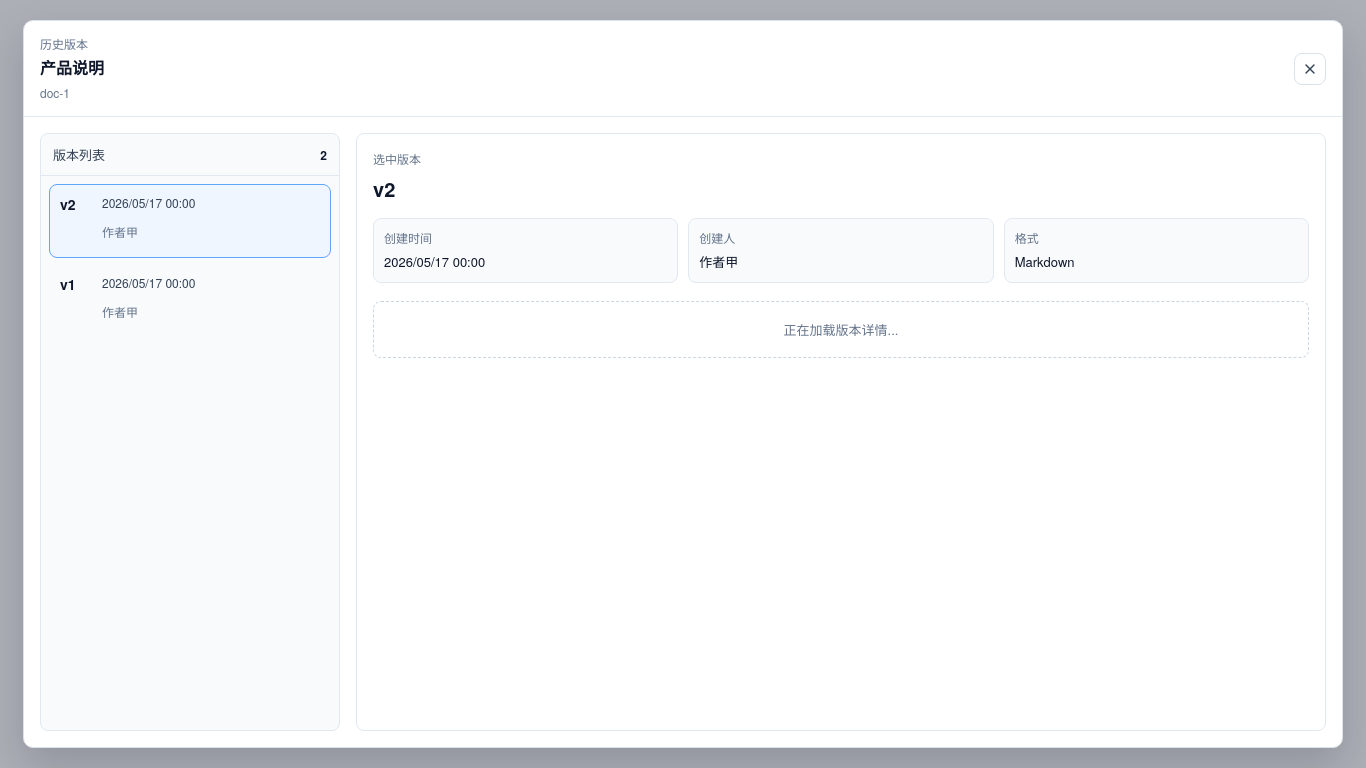
Test: DocumentRevisionHistoryDialog › ignores stale detail requests when switching selected revisions
Expected: the button with aria-label "版本 2，作者甲" is shown, [49,184,331,258]
Step 1. Click the button with aria-label "版本 1，作者甲" → x=149, y=282, box [49,264,331,338]
(page scrolled)
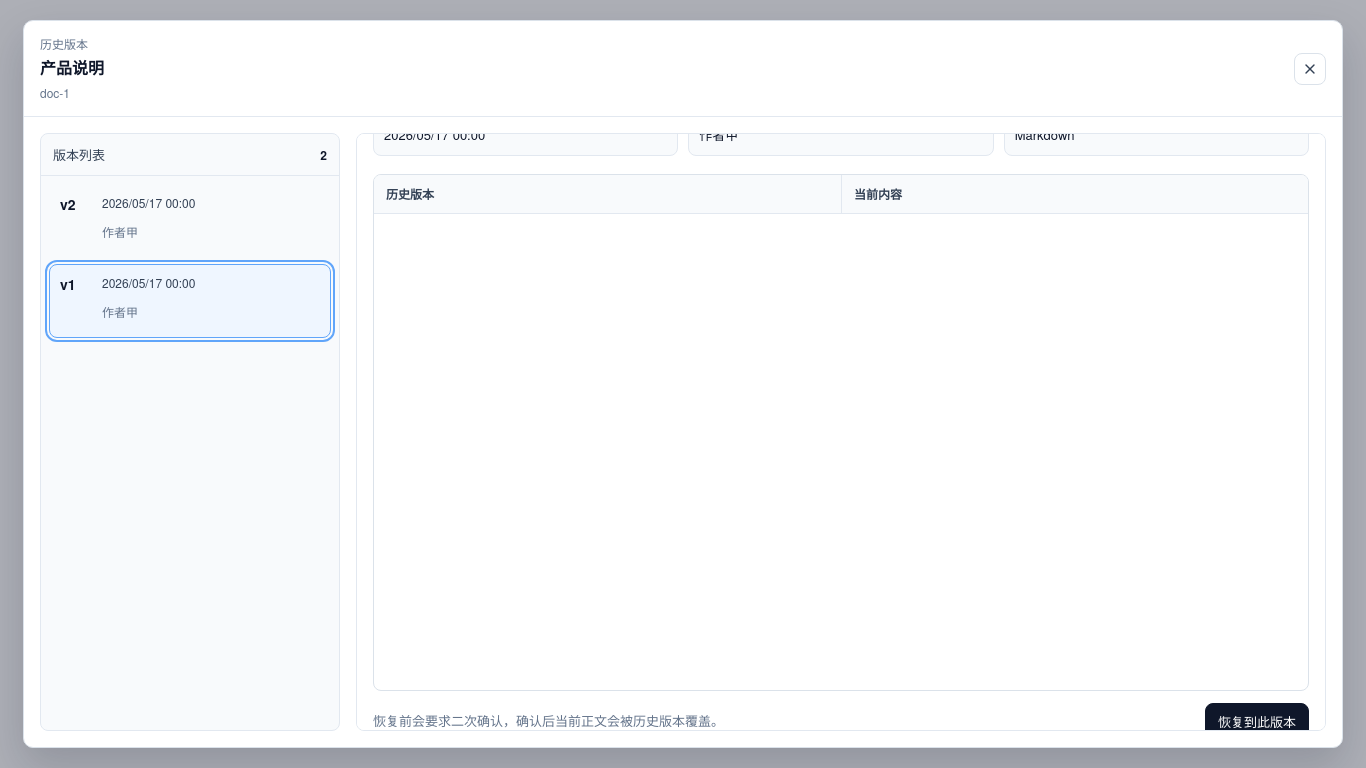
Result: the element named "Markdown 差异视图" is shown at [373,174,1309,691]
